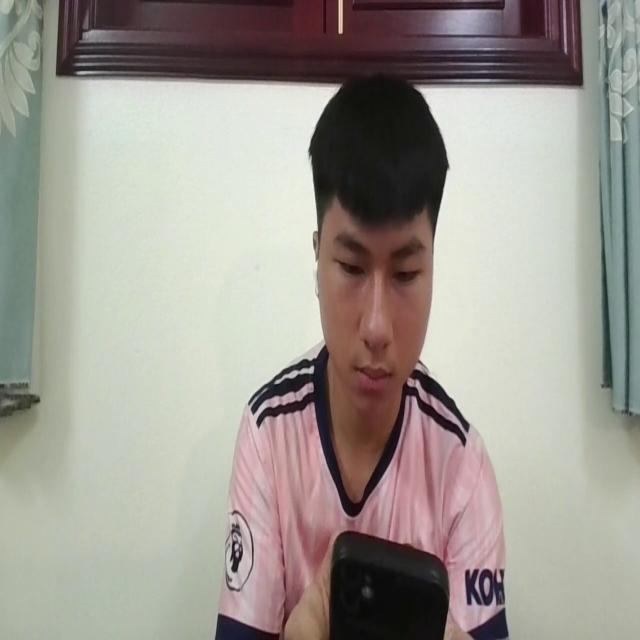phone: (329, 522, 448, 640)
student: (218, 68, 507, 640)
